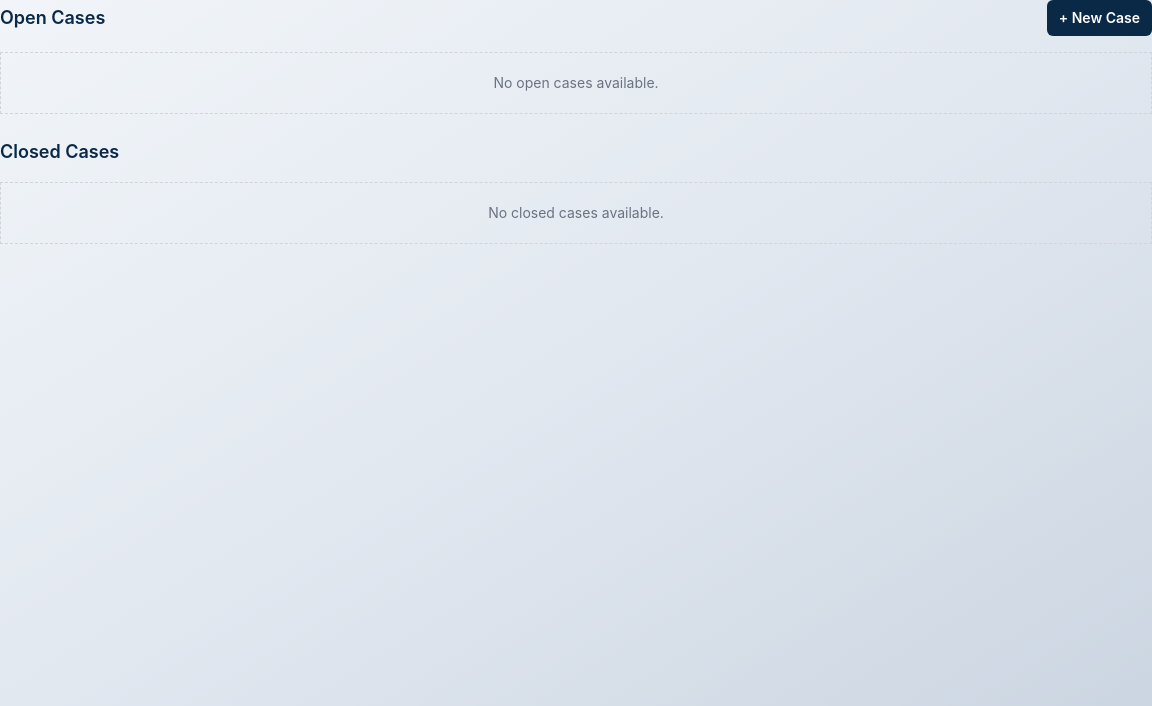
Scenario: Case form submission › shows a Submit button and logs typed form data on submit
Later steps or results of the test are not shown.
Expected: the text "No open cases available." is shown, [0, 52, 1151, 114]
Click the button "+ New Case": (1099, 18) [1047, 0, 1151, 36]
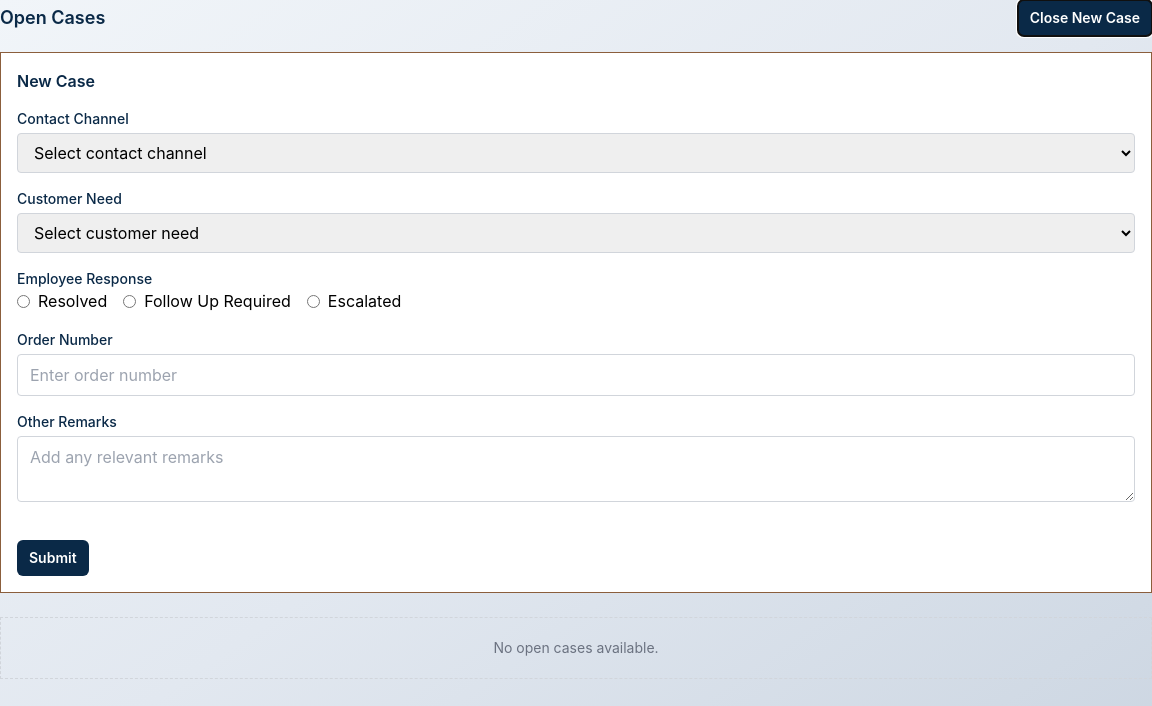
Expected: the button "Submit" is shown, [17, 540, 89, 576]
